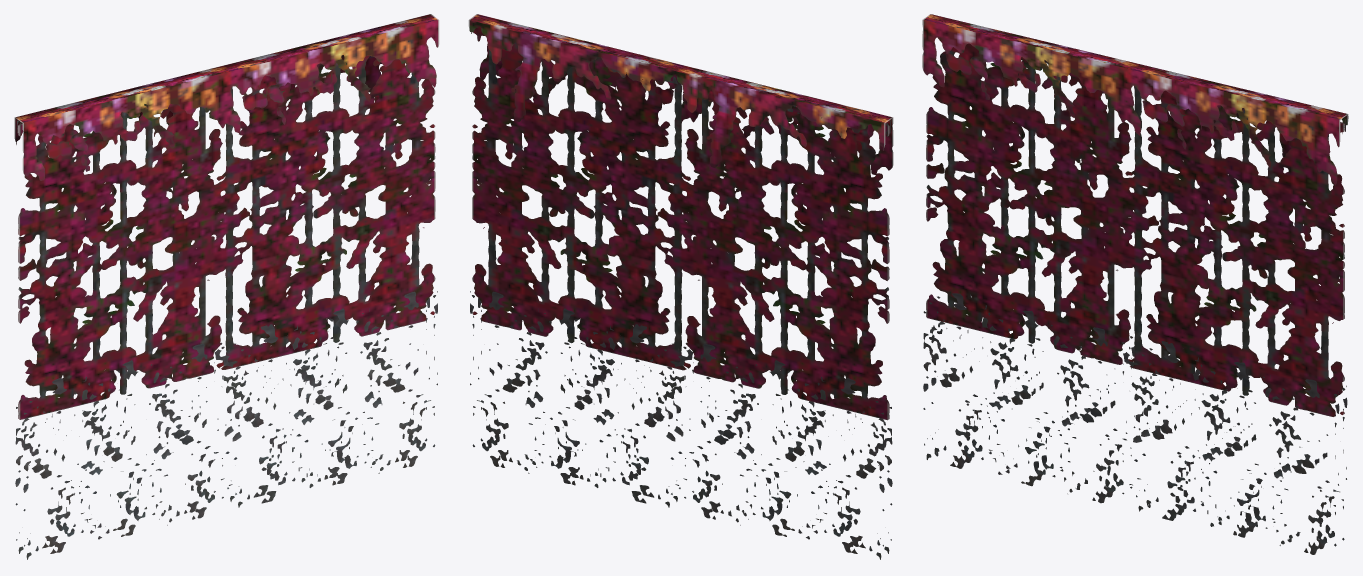
The model's file is thm_nboo_imprv_lattice_wall_short_s01_l2.fbx.
3 views of the same model, side by side, from view 1: azimuth 30°, elevation 25°; view 2: azimuth 150°, elevation 25°; view 3: azimuth 330°, elevation 25° (orthographic).
Parts seen in each view (by area): view 1: mesh_node; view 2: mesh_node; view 3: mesh_node.
Part boxes in pixels (x1,y1,x2,y2): mesh_node: (14,14,439,559); mesh_node: (468,14,893,559); mesh_node: (922,14,1348,554).
Bounding box in the file's own units: 3 × 3.03 × 0.1069.
